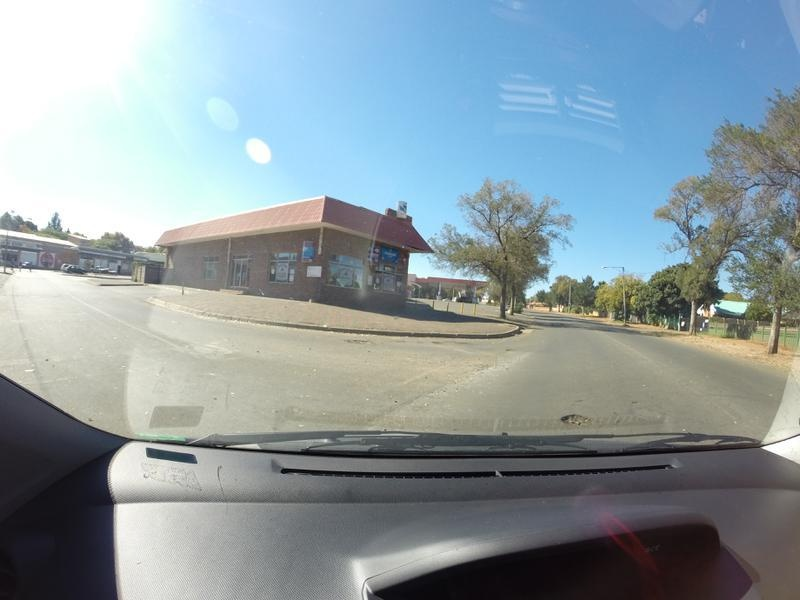pothole: (553, 411, 591, 425)
